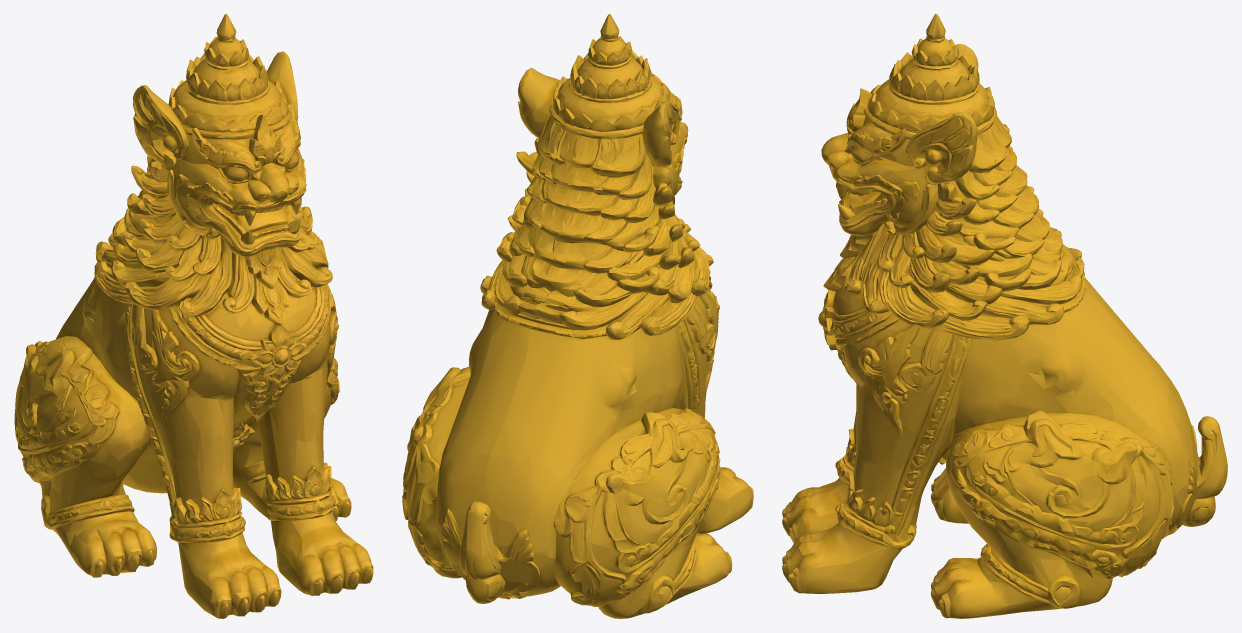
Rendered from tue.glb.
3 views of the same model, side by side, from view 1: azimuth 30°, elevation 25°; view 2: azimuth 150°, elevation 25°; view 3: azimuth 270°, elevation 25° (orthographic). The views are drawn at different scales.
Parts seen in each view (by area): view 1: Mesh_0; view 2: Mesh_0; view 3: Mesh_0.
Boxes of the visible parts, left/top/right/bottom form: Mesh_0: left=14, top=14, right=373, bottom=618; Mesh_0: left=402, top=14, right=753, bottom=618; Mesh_0: left=782, top=14, right=1227, bottom=618.
Bounding box in the file's own units: 1.04 × 1.9 × 1.42.
Materials: 1 (1 with a texture image).
